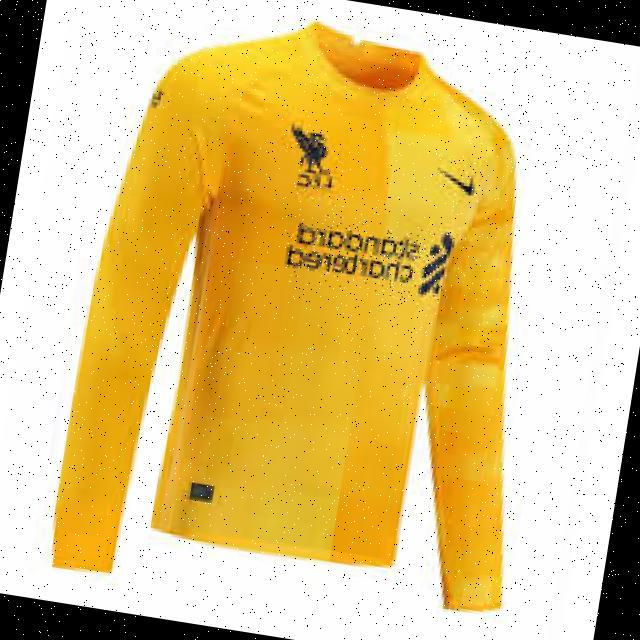Standard Chartered: (280, 208, 457, 308)
